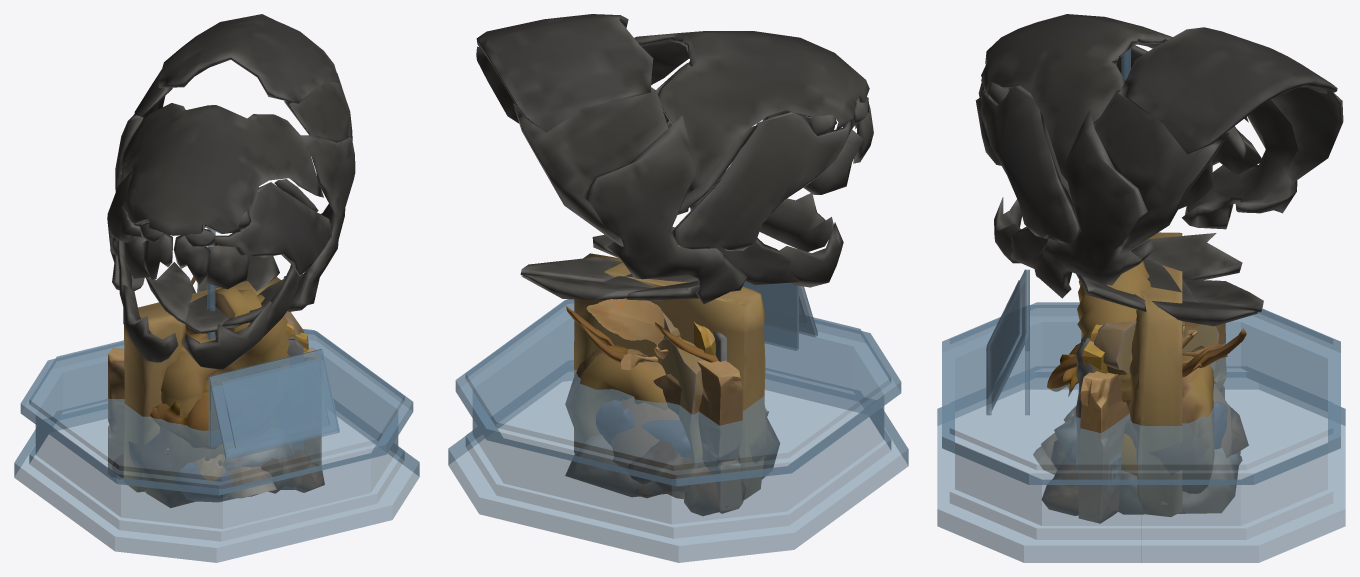
Rendered from fossils.glb.
3 renders of one model, left to right at view 1: azimuth 30°, elevation 25°; view 2: azimuth 150°, elevation 25°; view 3: azimuth 270°, elevation 25°, orthographic. The views are drawn at different scales.
Parts seen in each view (by area): view 1: TemplateDummyFossilBaseMiddle_mFossilBaseEnd, mFtrFossilDunkleosteus, mFtrFossilAmmonoidea, mFtrFossilIchnology, mFtrFossilTrilobite, mFtrFossilFirstAmphibian, mFtrFossilCoprolite, mFtrFossilFirstFish, mFtrFossilAustralopithecus, mFtrFossilFirstFourLegs; view 2: mFtrFossilDunkleosteus, TemplateDummyFossilBaseMiddle_mFossilBaseEnd, mFtrFossilIchnology, mFtrFossilAmmonoidea, mFtrFossilFirstAmphibian, mFtrFossilTrilobite, mFtrFossilFirstFourLegs, mFtrFossilCoprolite, mFtrFossilShark, mFtrFossilFirstFish, mFtrFossilAustralopithecus; view 3: TemplateDummyFossilBaseMiddle_mFossilBaseEnd, mFtrFossilDunkleosteus, mFtrFossilIchnology, mFtrFossilAmmonoidea, mFtrFossilFirstAmphibian, mFtrFossilTrilobite, mFtrFossilShark, mFtrFossilCoprolite, mFtrFossilAustralopithecus, mFtrFossilAnomalocaris, mFtrFossilArchaeopteryx, mFtrFossilFirstFourLegs (+2 smaller).
Part boxes in pixels (x1=…): TemplateDummyFossilBaseMiddle_mFossilBaseEnd: x1=14, y1=228, x2=419, y2=562; mFtrFossilDunkleosteus: x1=107, y1=14, x2=355, y2=369; mFtrFossilAmmonoidea: x1=128, y1=287, x2=292, y2=507; mFtrFossilIchnology: x1=123, y1=277, x2=291, y2=492; mFtrFossilTrilobite: x1=149, y1=361, x2=295, y2=470; mFtrFossilFirstAmphibian: x1=108, y1=348, x2=321, y2=471; mFtrFossilCoprolite: x1=112, y1=449, x2=324, y2=493; mFtrFossilFirstFish: x1=175, y1=462, x2=235, y2=502; mFtrFossilAustralopithecus: x1=193, y1=455, x2=276, y2=498; mFtrFossilFirstFourLegs: x1=191, y1=276, x2=225, y2=481; mFtrFossilDunkleosteus: x1=476, y1=14, x2=873, y2=304; TemplateDummyFossilBaseMiddle_mFossilBaseEnd: x1=448, y1=197, x2=908, y2=562; mFtrFossilIchnology: x1=574, y1=253, x2=765, y2=499; mFtrFossilAmmonoidea: x1=565, y1=245, x2=779, y2=479; mFtrFossilFirstAmphibian: x1=697, y1=360, x2=742, y2=513; mFtrFossilTrilobite: x1=565, y1=306, x2=718, y2=497; mFtrFossilFirstFourLegs: x1=586, y1=298, x2=681, y2=414; mFtrFossilCoprolite: x1=627, y1=441, x2=746, y2=515; mFtrFossilShark: x1=661, y1=311, x2=704, y2=468; mFtrFossilFirstFish: x1=596, y1=400, x2=690, y2=457; mFtrFossilAustralopithecus: x1=611, y1=397, x2=679, y2=468; TemplateDummyFossilBaseMiddle_mFossilBaseEnd: x1=937, y1=49, x2=1345, y2=562; mFtrFossilDunkleosteus: x1=975, y1=14, x2=1343, y2=326; mFtrFossilIchnology: x1=1129, y1=232, x2=1182, y2=516; mFtrFossilAmmonoidea: x1=1077, y1=260, x2=1214, y2=493; mFtrFossilFirstAmphibian: x1=1078, y1=323, x2=1226, y2=523; mFtrFossilTrilobite: x1=1047, y1=328, x2=1246, y2=514; mFtrFossilShark: x1=1094, y1=320, x2=1219, y2=418; mFtrFossilCoprolite: x1=1041, y1=405, x2=1248, y2=515; mFtrFossilAustralopithecus: x1=1033, y1=386, x2=1232, y2=474; mFtrFossilAnomalocaris: x1=1076, y1=335, x2=1096, y2=470; mFtrFossilArchaeopteryx: x1=1082, y1=324, x2=1107, y2=373; mFtrFossilFirstFourLegs: x1=1064, y1=321, x2=1227, y2=422.
Bounding box in the file's own units: 16 × 20.47 × 15.93.
17 materials, 16 textured.
